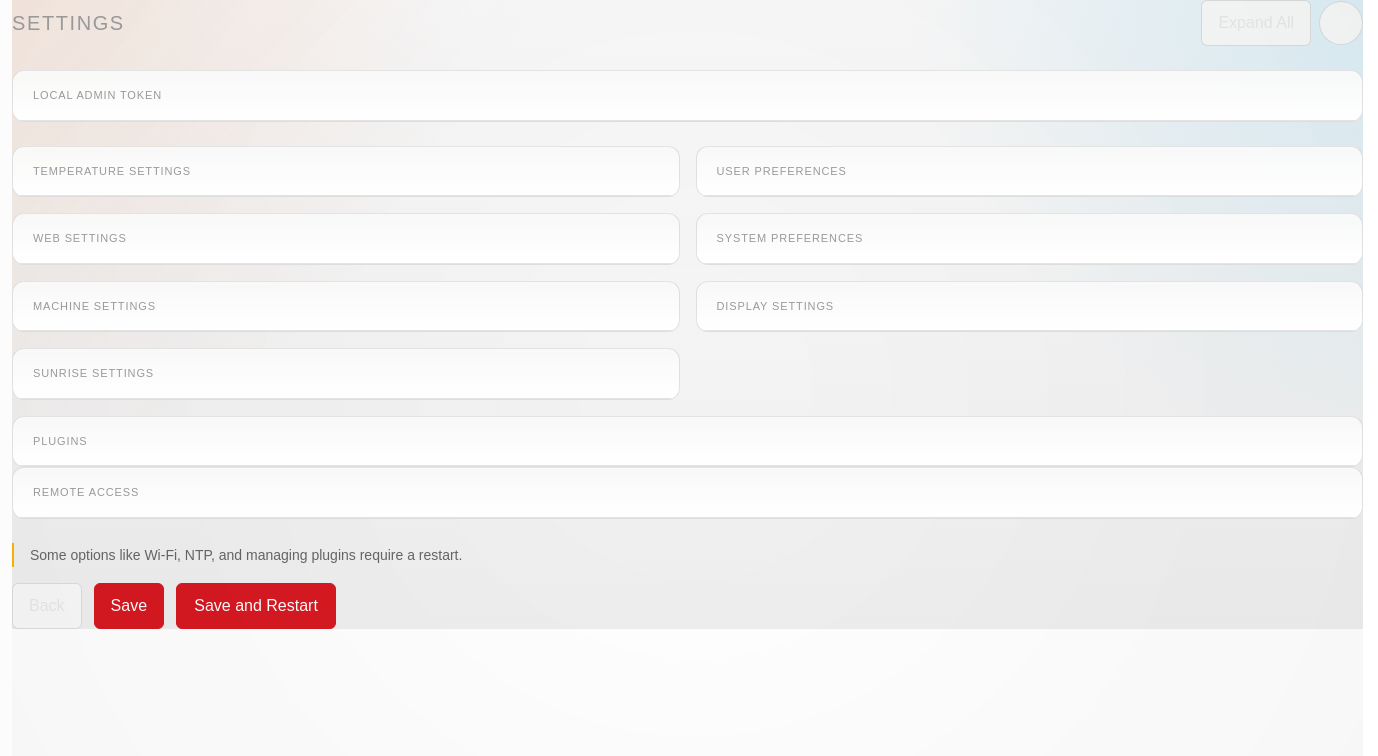
Test: Settings custom accents (PRO-643) › shows the dashboard picker pre-populated when an override is already stored
What coordinates should you click on to do the following:
click the button "Web Settings"
I would click on:
 (80, 238)
Its box is [33,230,658,246].
(page scrolled)
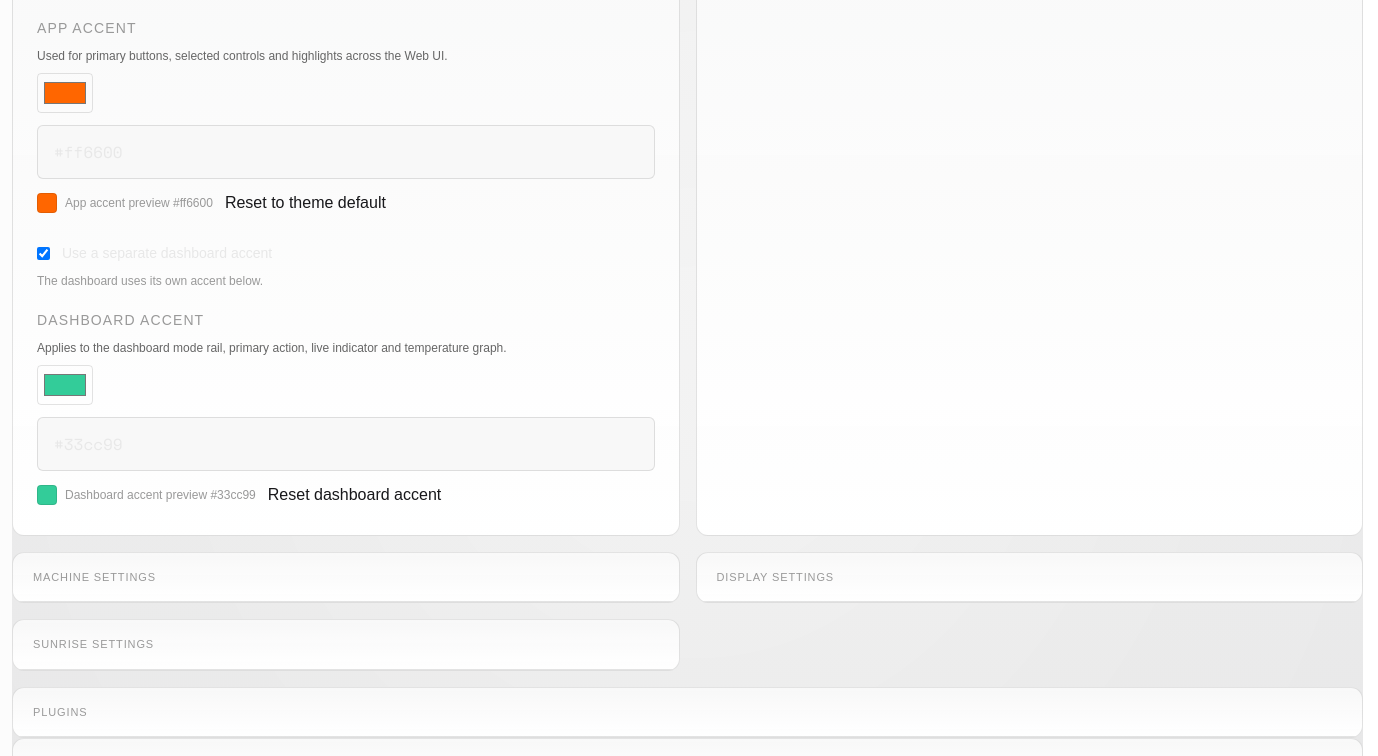
Expected: the checkbox labelled "Use a separate dashboard accent" is checked, [37,246,50,260]
Expected: the 2nd colour field named "Dashboard accent color" holds "#33cc99", [37,364,93,404]
